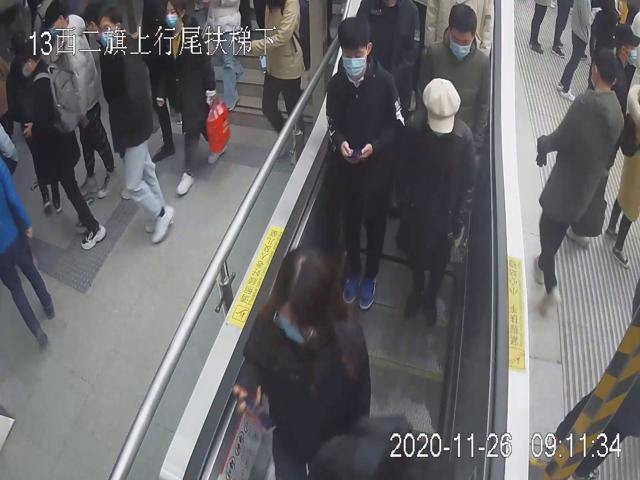person: (233, 243, 372, 480), (533, 42, 625, 319), (323, 16, 406, 311), (398, 75, 479, 328), (414, 0, 492, 144)
